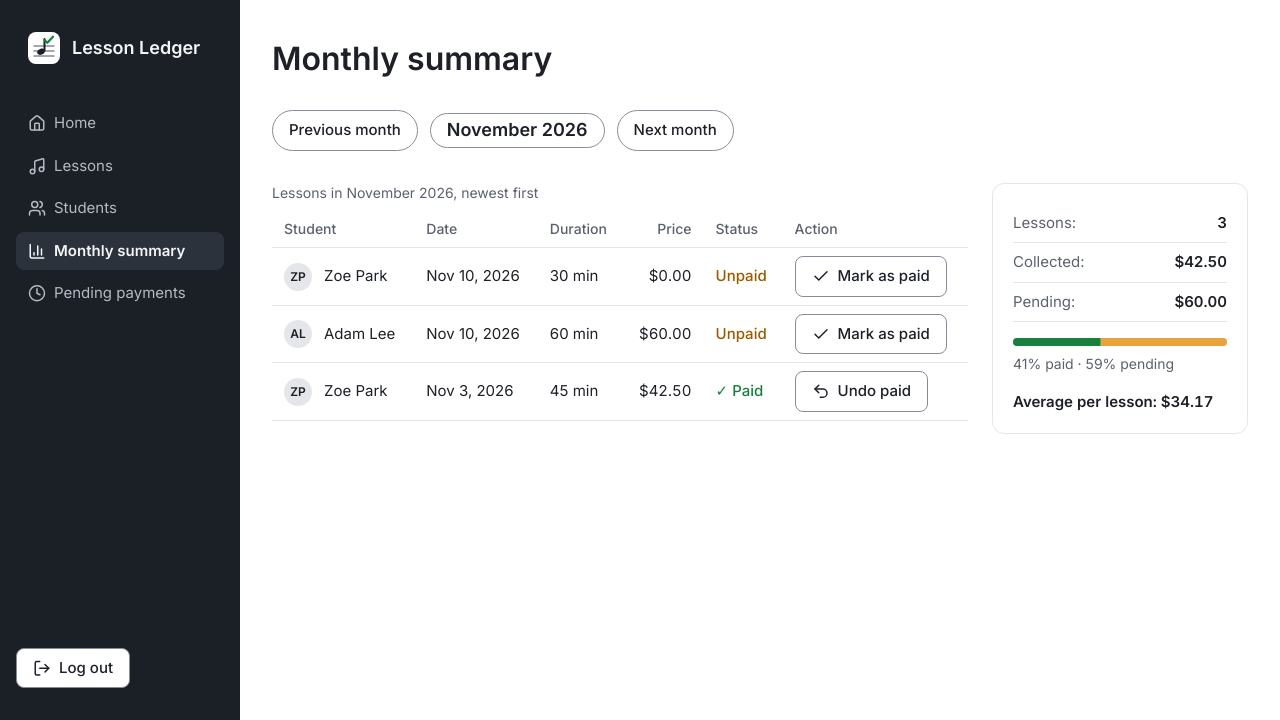
Scenario: F06 AC-4 the month chip and metrics panel on /summary › AC-4c after Mark as paid on lesson B the panel updates in place; the average and the announcement stay
The image size is (1280, 720).
expect the heading "Monthly summary" is shown: met, box 272,39 -> 552,78
expect the table is shown: met, box 272,183 -> 968,421
Click the button with aria-label "Mark as paid: Adam Lee, Nov 10, 2026" at [871, 334], box 795,314 -> 947,354
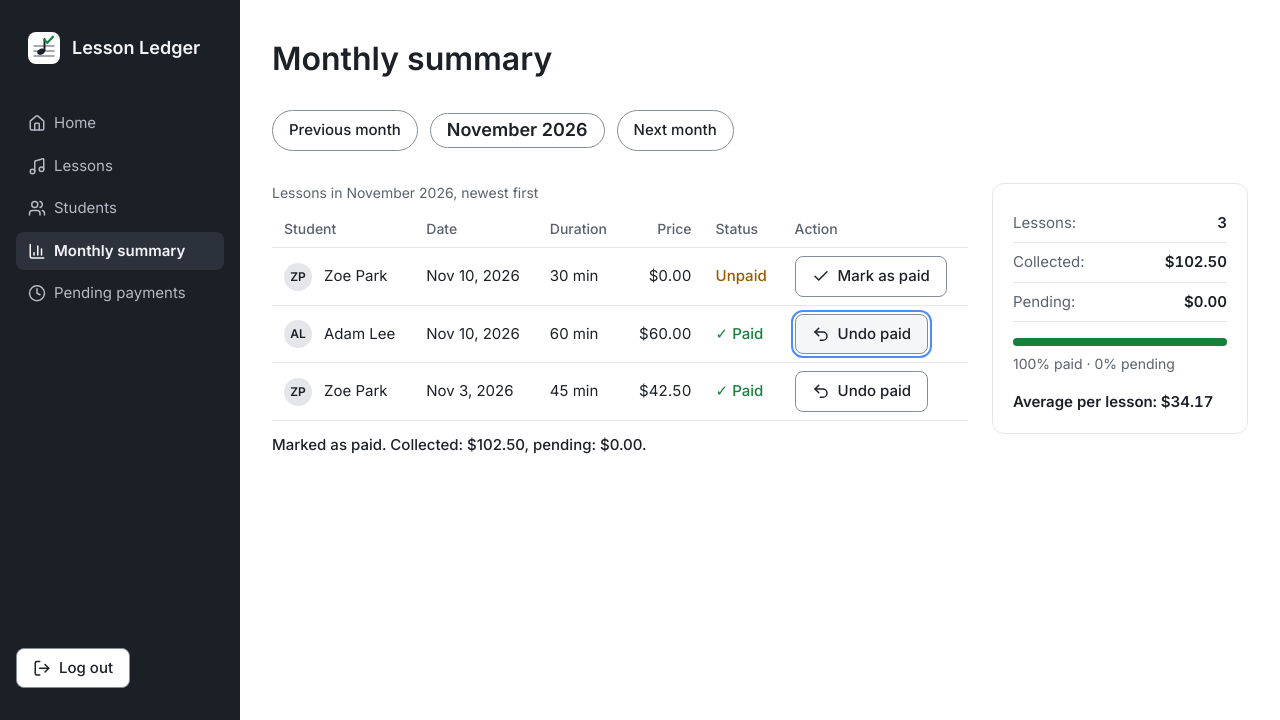
expect the text "Average per lesson: $34.17" is shown: met, box 1013,391 -> 1227,413
expect the text "100% paid · 0% pending" is shown: met, box 1013,355 -> 1175,372
expect the message reads "Marked as paid. Collected: $102.50, pending: $0.00.": met, box 272,435 -> 647,454
